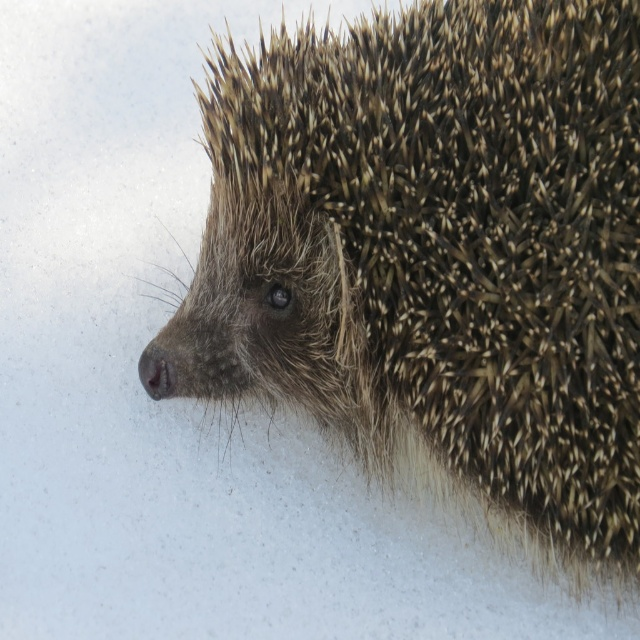Hedgehog: (139, 2, 640, 611)
